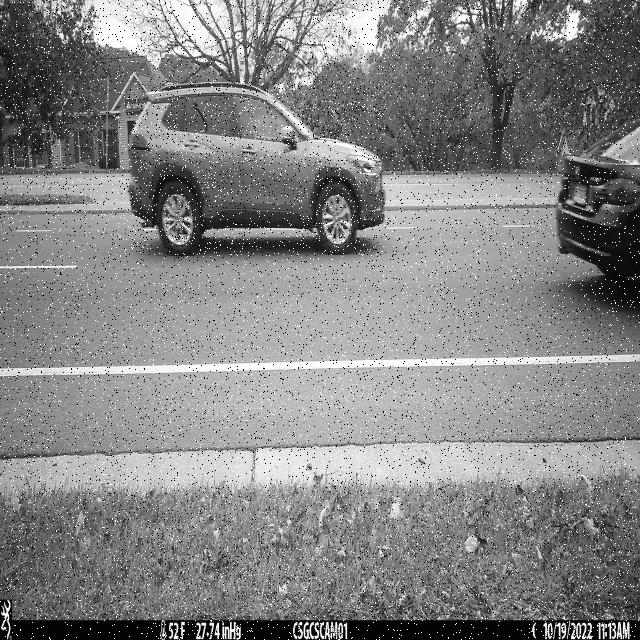SUV: (128, 82, 385, 256)
